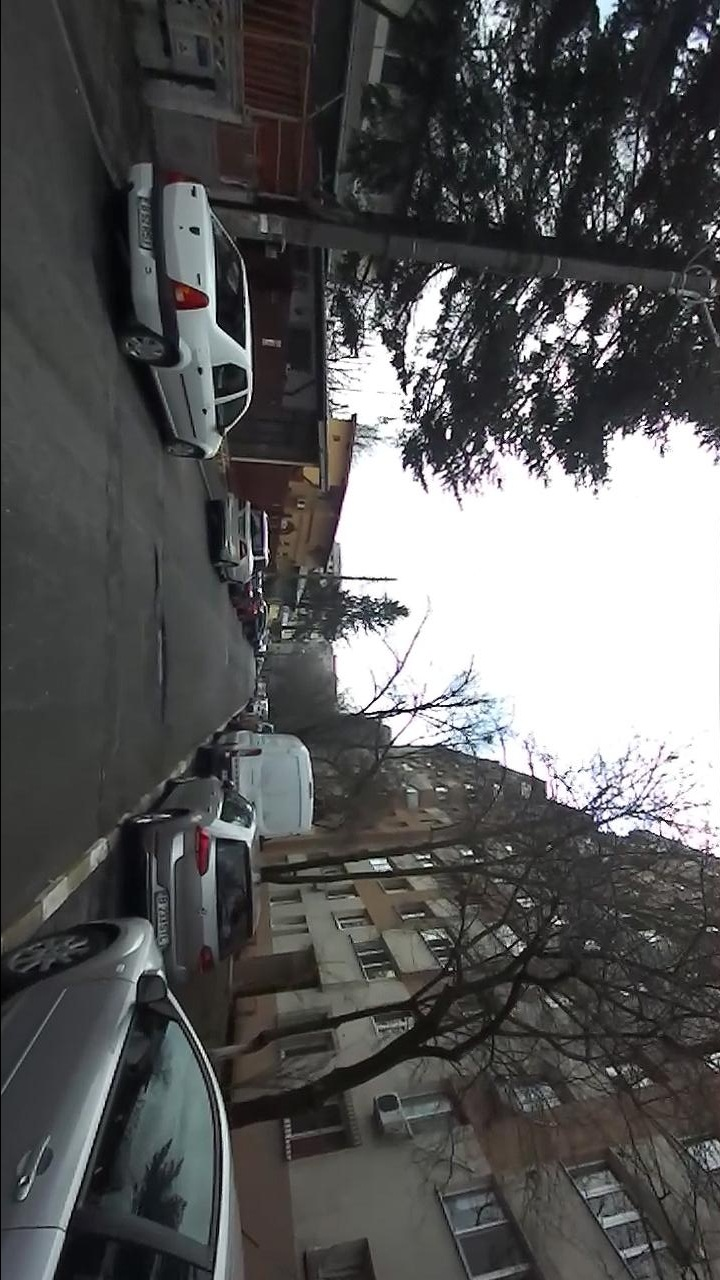pothole: (150, 614, 172, 725), (148, 543, 162, 606)
